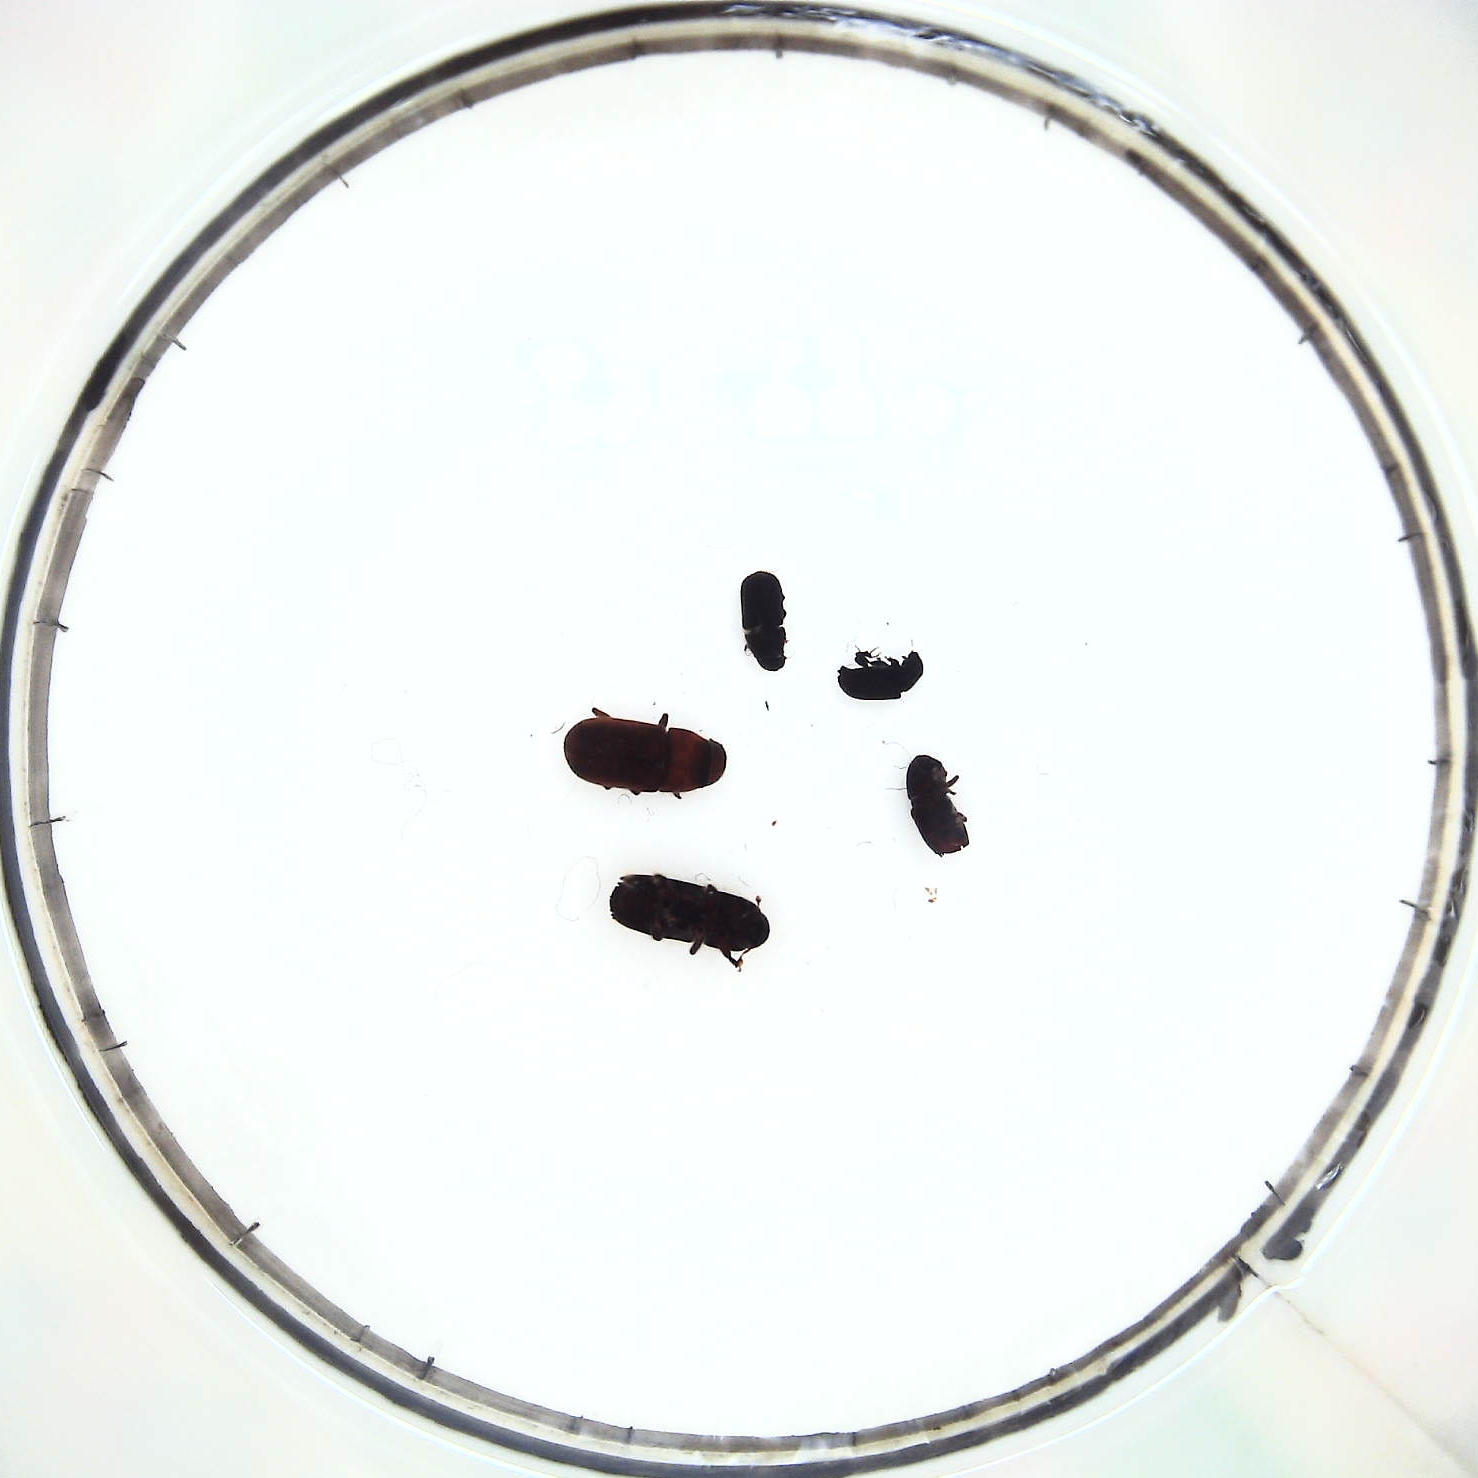Boerner: (608, 870, 773, 964)
Leconte: (566, 712, 732, 803)
Linnaeus: (903, 751, 976, 857)
armandi: (738, 570, 796, 669)
coleoptera: (841, 648, 924, 704)
